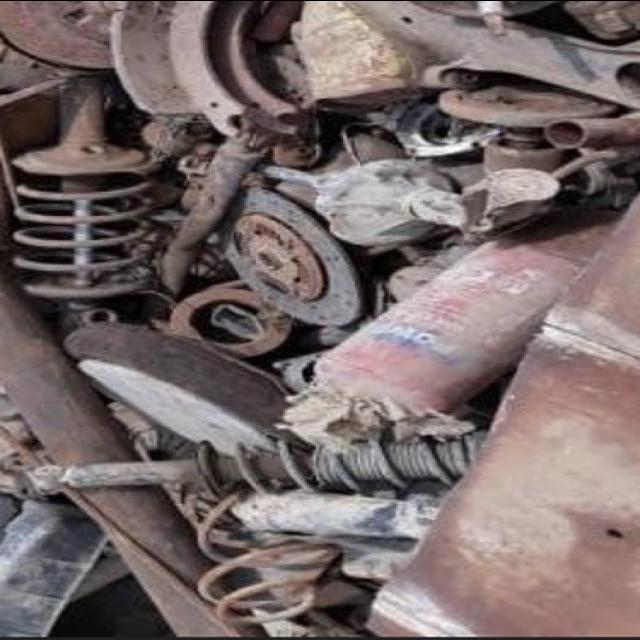shock absorber: (33, 412, 496, 495), (13, 75, 163, 297)
